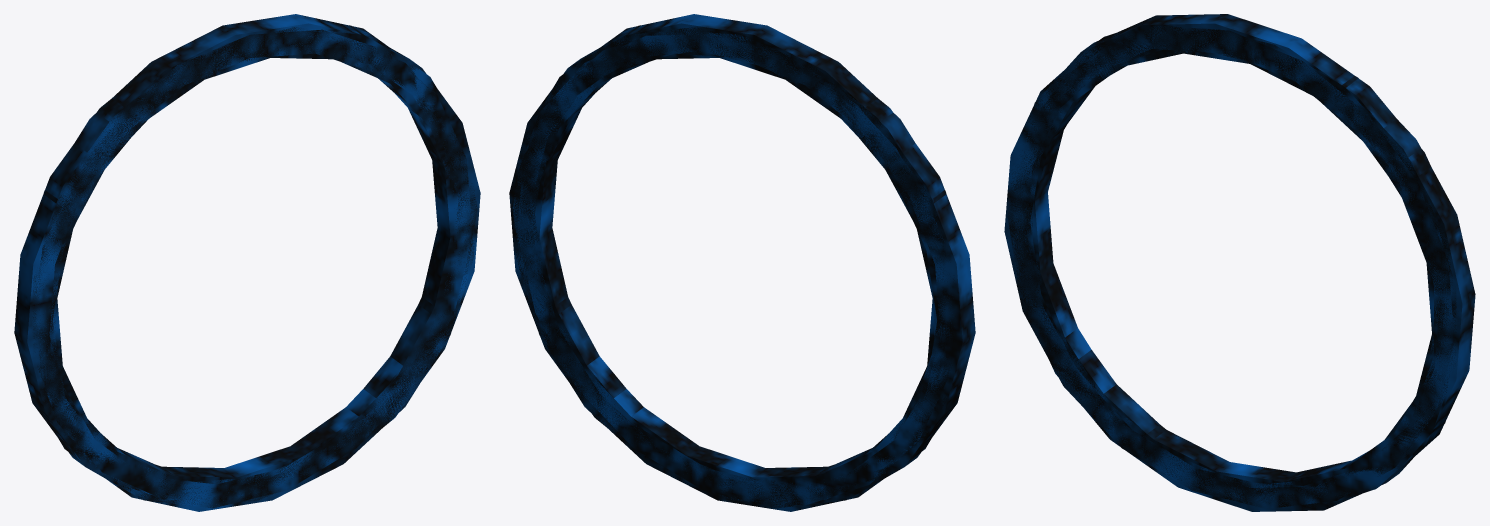
File: Waypoint.fbx
3 renders of one model, left to right at view 1: azimuth 30°, elevation 25°; view 2: azimuth 150°, elevation 25°; view 3: azimuth 330°, elevation 25°, orthographic.
Parts seen in each view (by area): view 1: Röhre.1, Röhre.4, Röhre.3, Röhre.2; view 2: Röhre.1, Röhre.4, Röhre.2, Röhre.3; view 3: Röhre.1, Röhre.3, Röhre.4, Röhre.2.
Boxes of the visible parts, bbox=[...] form: Röhre.1: bbox=[14, 29, 472, 508]; Röhre.4: bbox=[33, 14, 477, 500]; Röhre.3: bbox=[35, 25, 480, 504]; Röhre.2: bbox=[32, 37, 474, 511]; Röhre.1: bbox=[517, 30, 975, 508]; Röhre.4: bbox=[512, 14, 956, 499]; Röhre.2: bbox=[515, 34, 952, 511]; Röhre.3: bbox=[509, 25, 949, 505]; Röhre.1: bbox=[1004, 25, 1454, 508]; Röhre.3: bbox=[1012, 26, 1475, 506]; Röhre.4: bbox=[1010, 14, 1454, 503]; Röhre.2: bbox=[1007, 30, 1456, 511].
Bounding box in the file's own units: 192 × 192 × 9.49.
Materials: 1 (1 with a texture image).
